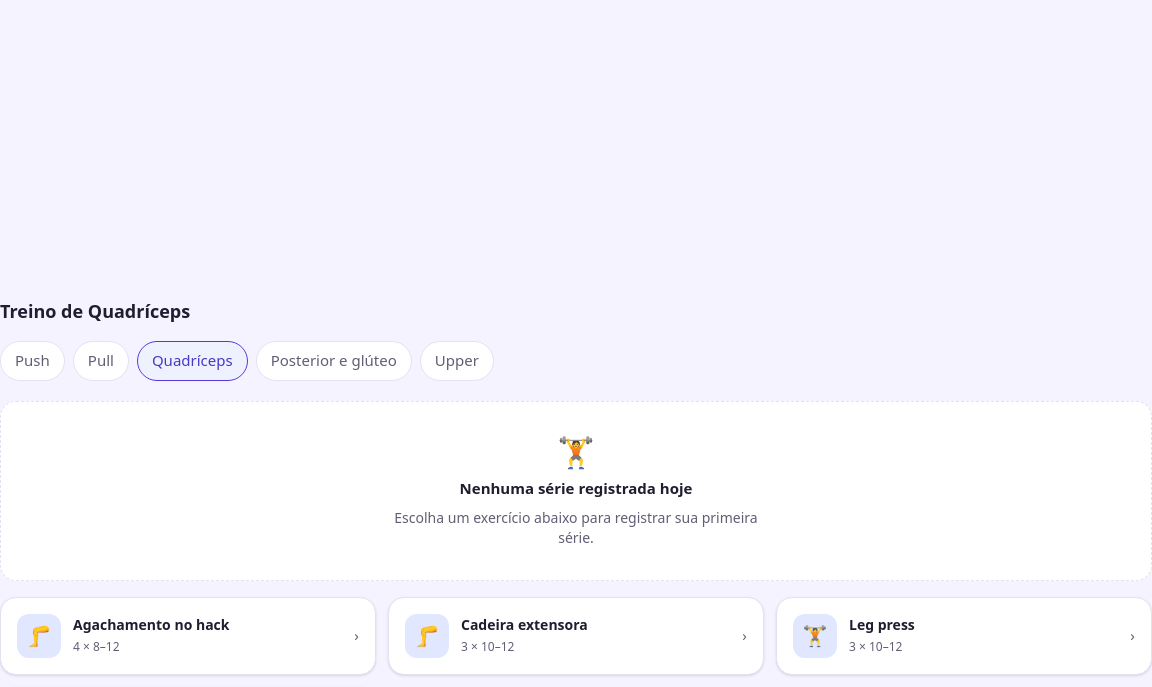
Treino › falha ao salvar mantém os campos preenchidos e mostra mensagem amigável
(page scrolled)
Click the button "Push" at (32,361), box [0,341,65,381]
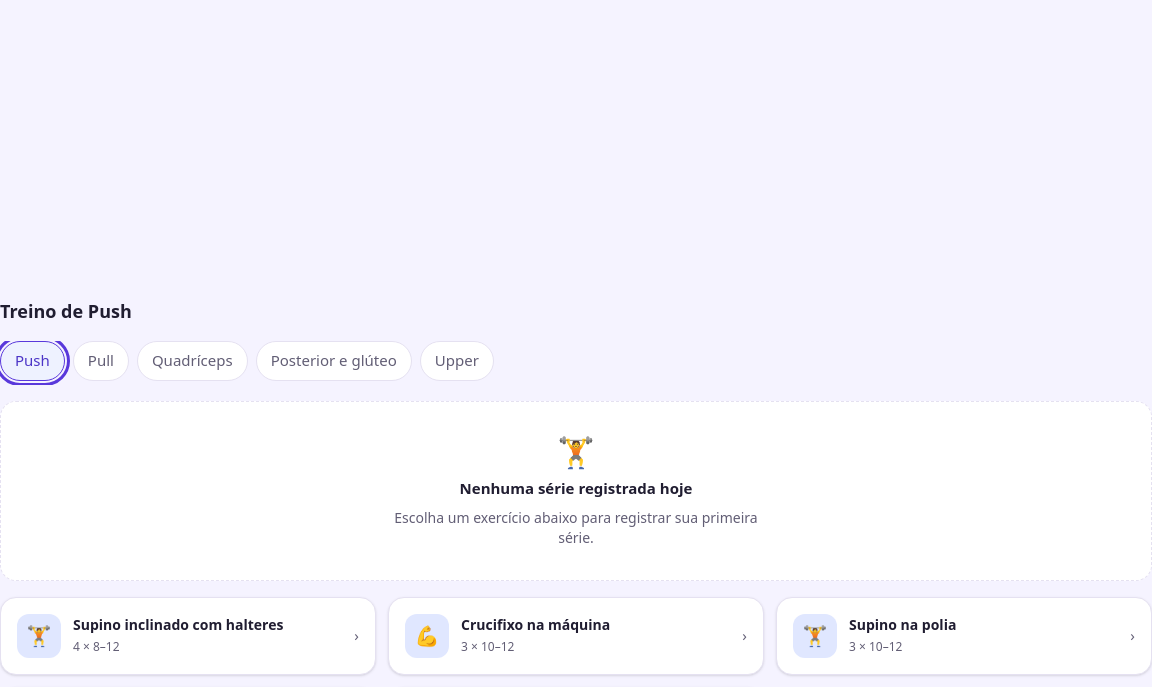
Click the button "🏋️ Supino inclinado com halteres 4 × 8–12 ›" at (188,636), box [0,596,376,674]
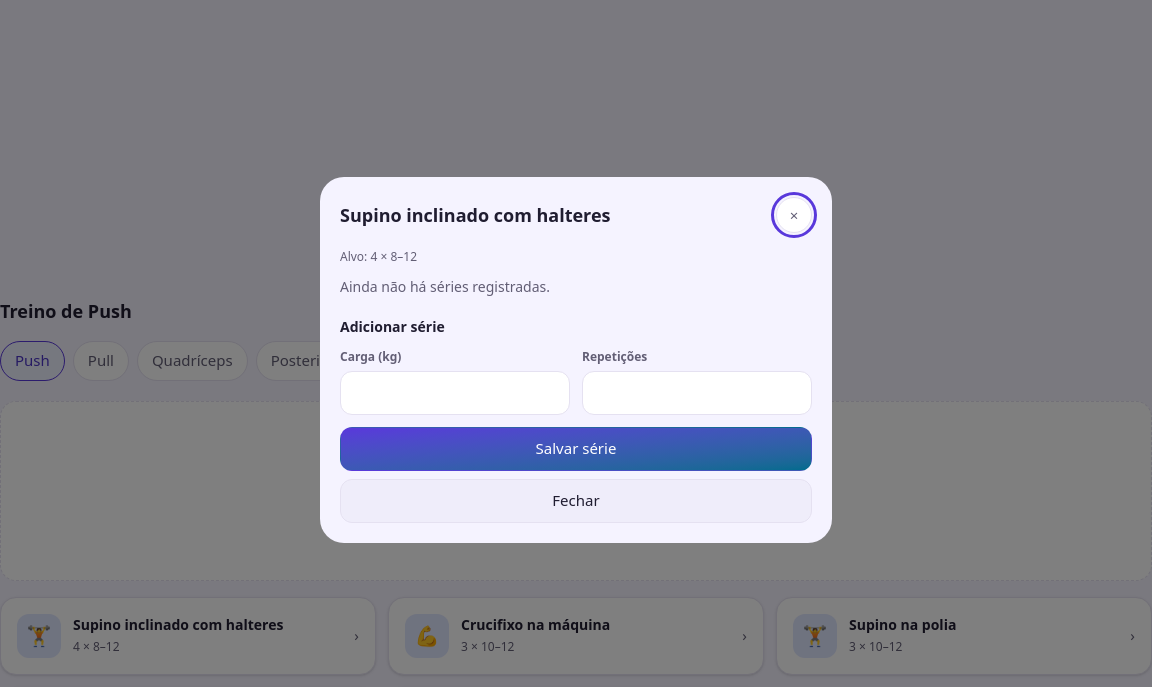
Type "20" into the number field labelled "Carga (kg)" at (455,393), box [340,371,570,415]
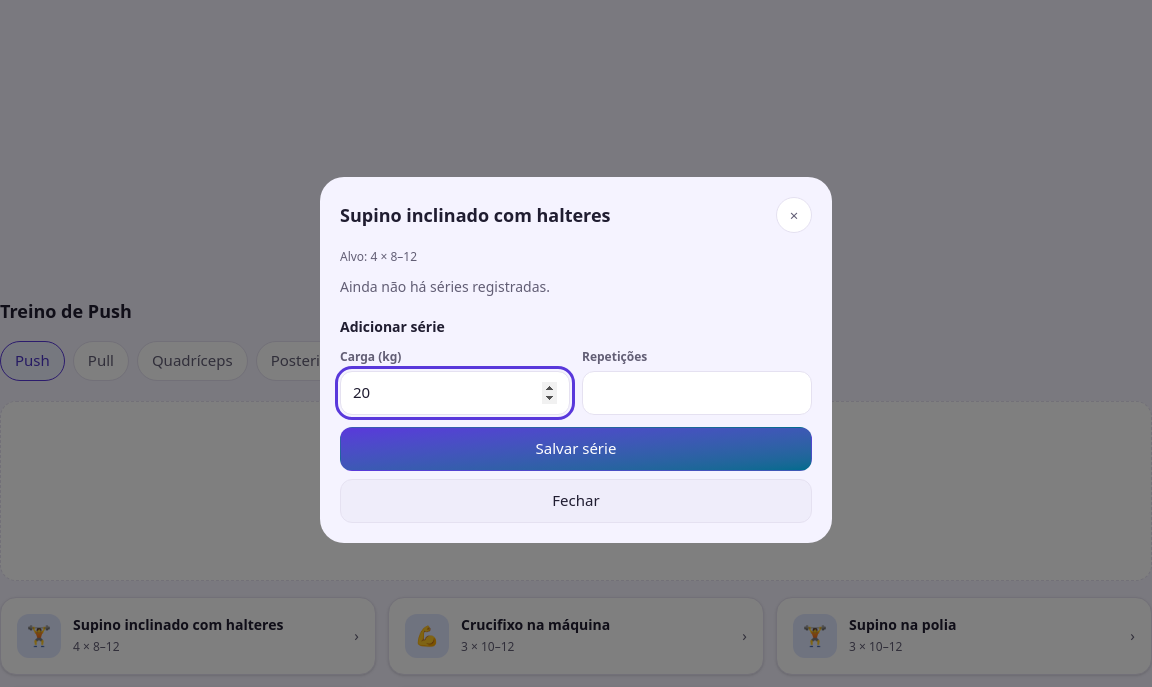
Type "8" into the number field labelled "Repetições" at (697,393), box [582,371,812,415]
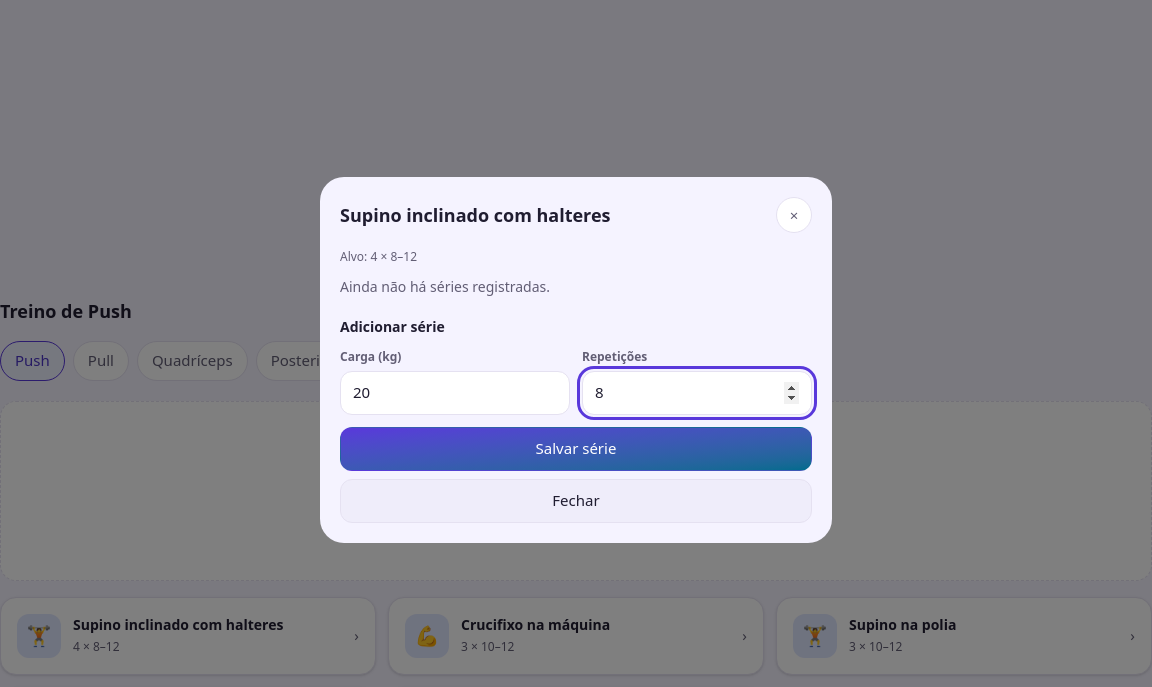
Click the button "Salvar série" at (576,449), box [340,427,812,471]
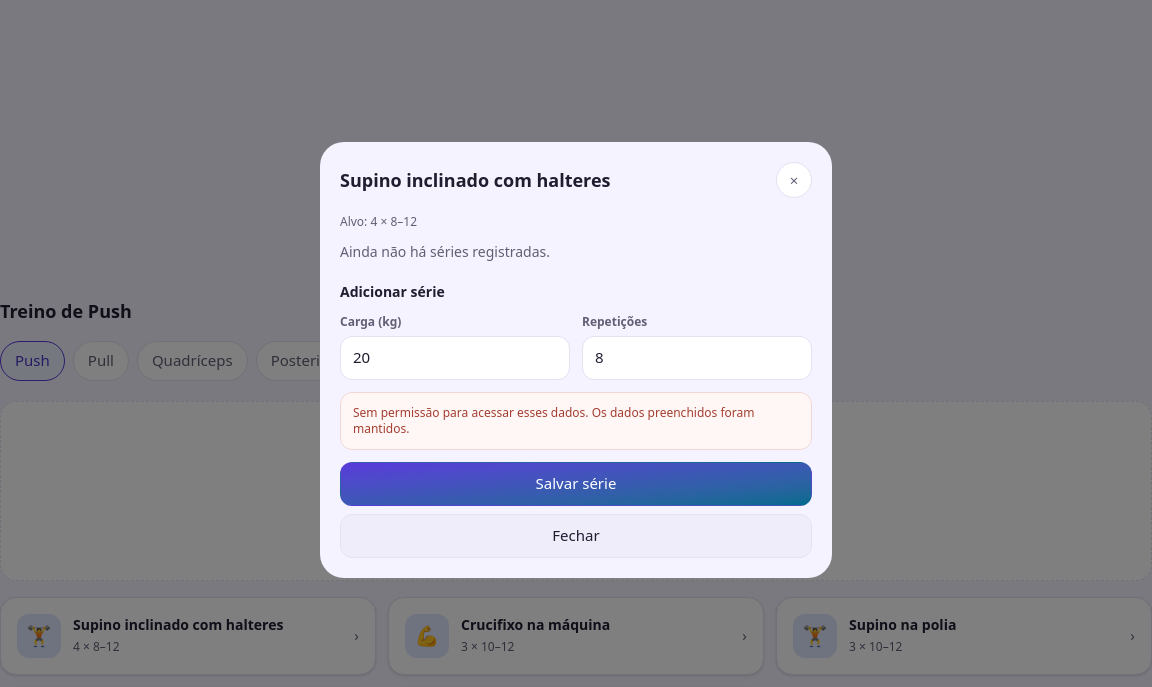
Check: the text "Sem permissão para acessar esses dados. Os dados preenchidos foram mantidos." is shown, box [340,392,812,450]
